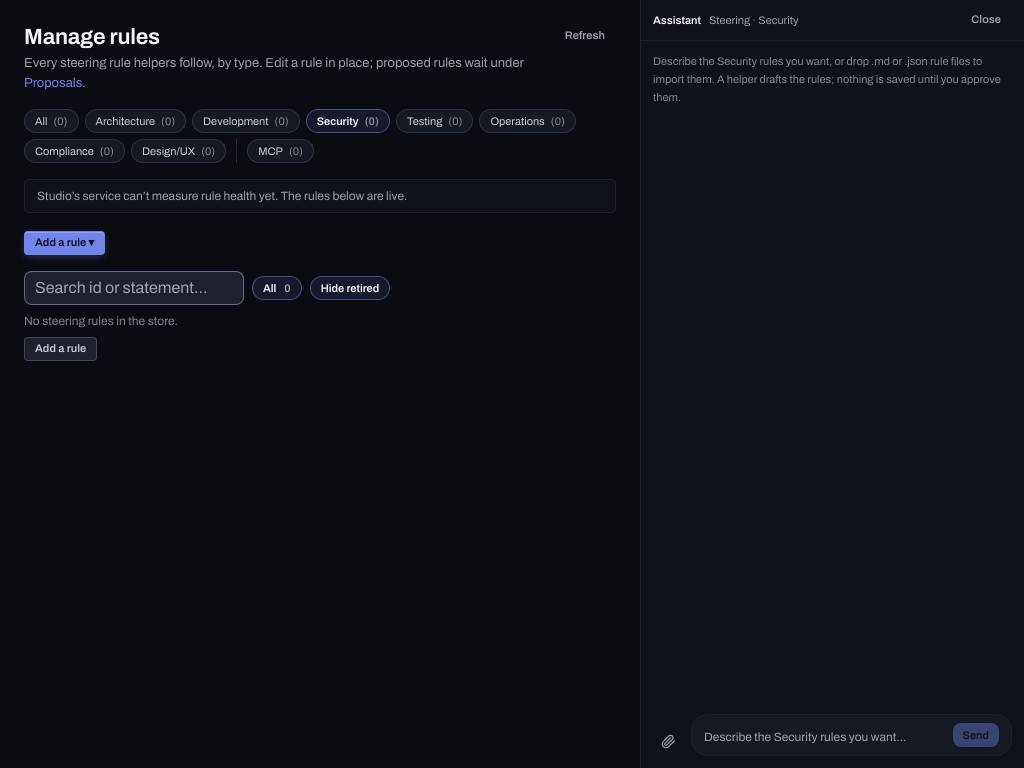
SteeringPage — the grid draft row (the add flow) › surfaces the reserved PAT-/POL- namespace rule on a bad manual id; a custom id outside it is legal
Click the button with test id "steering-grid-add" at (61, 349), box x1=24 y1=337 x2=97 y2=361
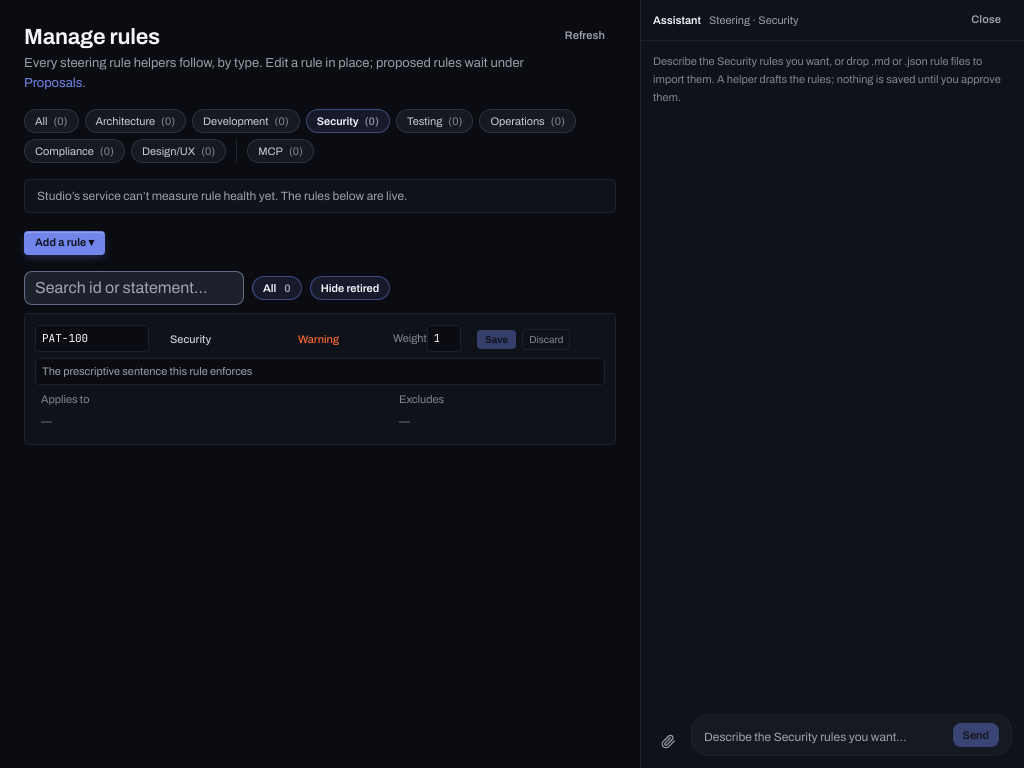
expect the button with test id "steering-draft-save" is disabled: met, box x1=477 y1=330 x2=516 y2=349
Type "x" into the field with test id "steering-draft-statement" at (320, 372), box x1=35 y1=358 x2=605 y2=385
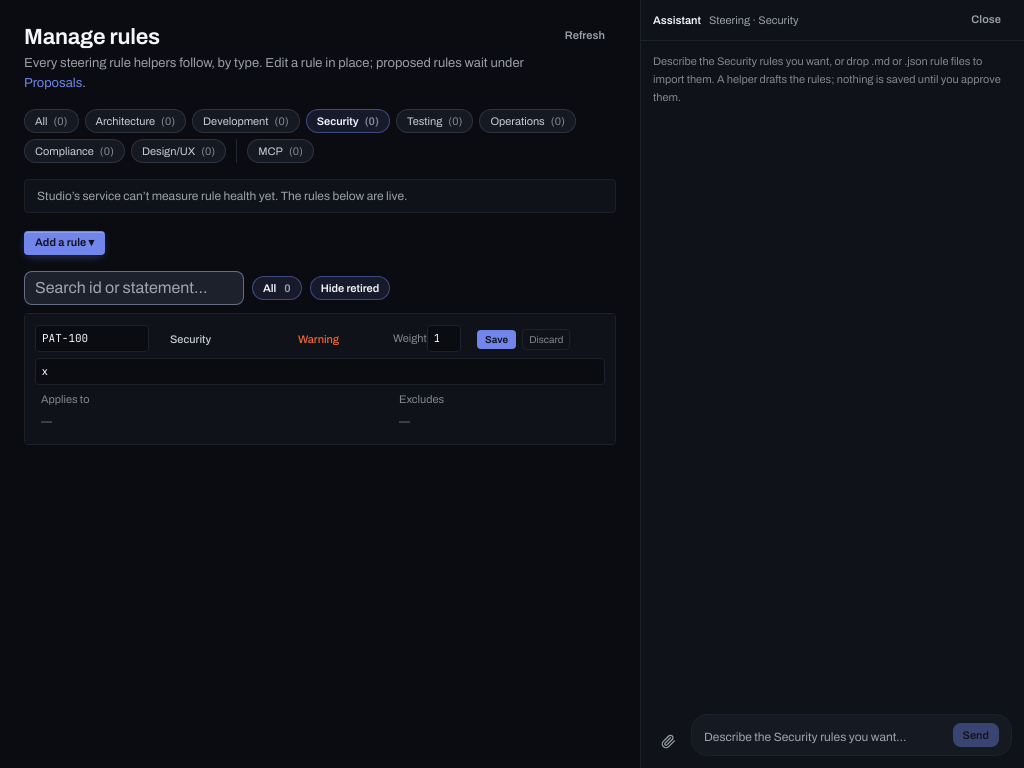
expect the button with test id "steering-draft-save" is enabled: met, box x1=477 y1=330 x2=516 y2=349
Replace the text in the field with test id "steering-draft-id" with "POL-1" at (92, 338), box x1=35 y1=325 x2=149 y2=352
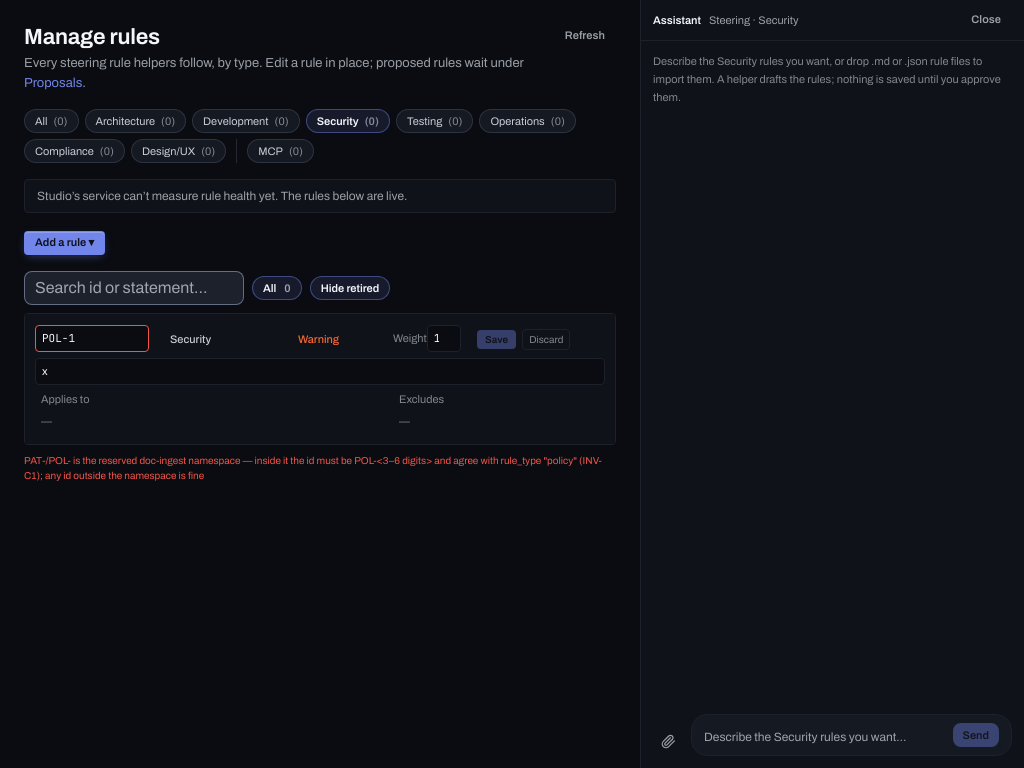
expect the button with test id "steering-draft-save" is disabled: met, box x1=477 y1=330 x2=516 y2=349
expect the text with test id "steering-draft-issue" shows "reserved doc-ingest namespace": met, box x1=24 y1=455 x2=602 y2=481
// Outside the namespace, the engine's INV-C1 asks only "non-blank" — legal.
Replace the text in the field with test id "steering-draft-id" with "SEC-CUSTOM-1" at (92, 338), box x1=35 y1=325 x2=149 y2=352
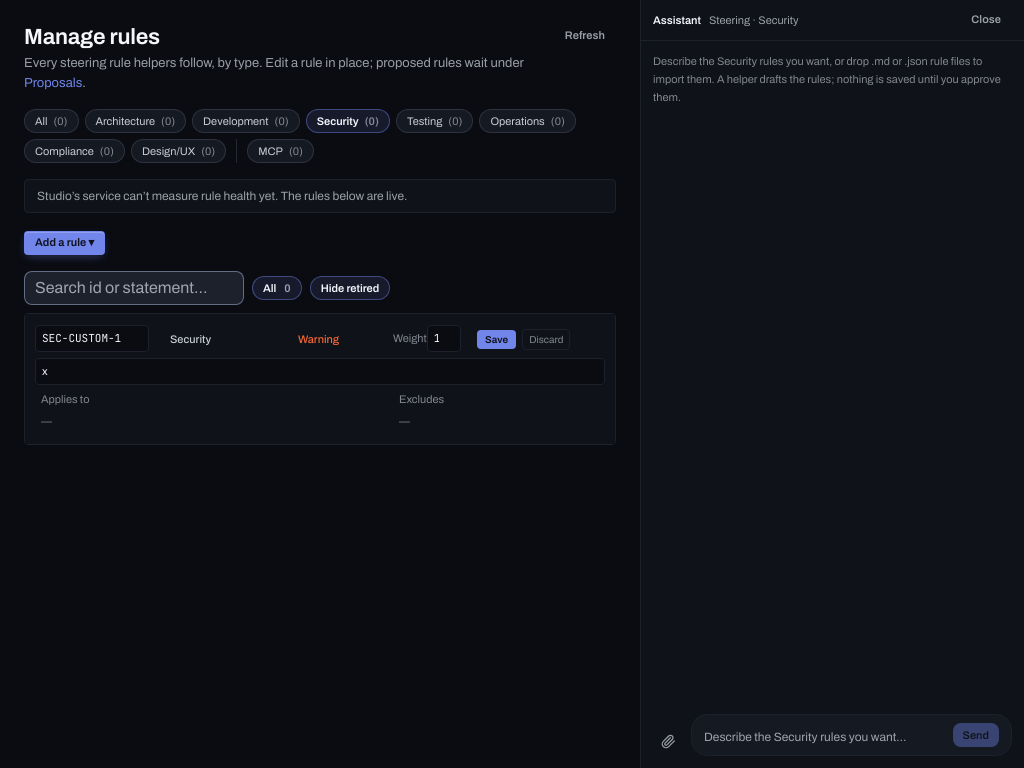
expect the text with test id "steering-draft-issue" is gone: met
expect the button with test id "steering-draft-save" is enabled: met, box x1=477 y1=330 x2=516 y2=349
